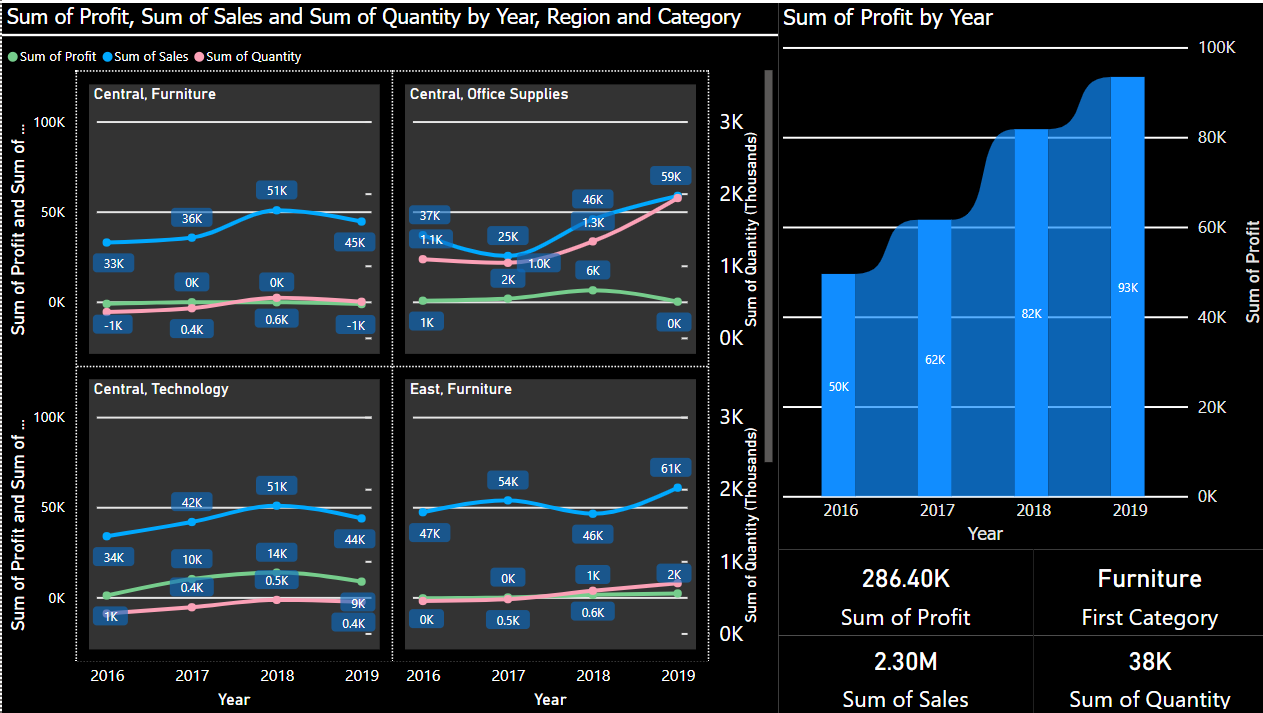

The dashboard page shown, as its layout file describes it:
{"tool":"powerbi","page":{"name":"Page 4","canvas":[1280,720],"ordinal":3},"visuals":[{"type":"lineChart","fields":{"Y":["Sum(Orders.Profit)","Sum(Orders.Sales)"],"Category":["Orders.Order Date.Variation.Date Hierarchy.Year","Orders.Order Date.Variation.Date Hierarchy.Quarter","Orders.Order Date.Variation.Date Hierarchy.Month","Orders.Order Date.Variation.Date Hierarchy.Day"],"Rows":["Orders.Region","Orders.Category"],"Y2":["Sum(Orders.Quantity)"]},"box":[0,0,785.8,720],"z":0},{"type":"ribbonChart","fields":{"Y":["Sum(Orders.Profit)"],"Category":["Orders.Order Date.Variation.Date Hierarchy.Year","Orders.Order Date.Variation.Date Hierarchy.Quarter","Orders.Order Date.Variation.Date Hierarchy.Month","Orders.Order Date.Variation.Date Hierarchy.Day"]},"box":[785.8,0,494.8,553],"z":1000},{"type":"card","fields":{"Values":["Sum(Orders.Profit)"]},"box":[785.8,553,258.1,87.3],"z":2000},{"type":"card","fields":{"Values":["Min(Orders.Category)"]},"box":[1043.9,553,236.6,87.3],"z":3000},{"type":"card","fields":{"Values":["Sum(Orders.Sales)"]},"box":[785.8,640.3,258.1,79.7],"z":4000},{"type":"card","fields":{"Values":["Sum(Orders.Quantity)"]},"box":[1043.9,640.3,236.6,79.7],"z":5000}]}

Visuals, with their boxes in screenshot pixels (x1, y1, x2, y2), scaled from the page's 1280x720 canvas onto the 1263x713 screenshot:
lineChart - Sum(Orders.Profit) x Sum(Orders.Sales): locate(0, 0, 775, 712)
ribbonChart - Sum(Orders.Profit) x Orders.Order Date.Variation.Date Hierarchy.Year: locate(775, 0, 1262, 548)
card - Sum(Orders.Profit): locate(775, 548, 1030, 634)
card - Min(Orders.Category): locate(1030, 548, 1262, 634)
card - Sum(Orders.Sales): locate(775, 634, 1030, 712)
card - Sum(Orders.Quantity): locate(1030, 634, 1262, 712)
